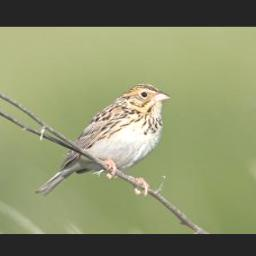Sparrow: (34, 82, 170, 195)
